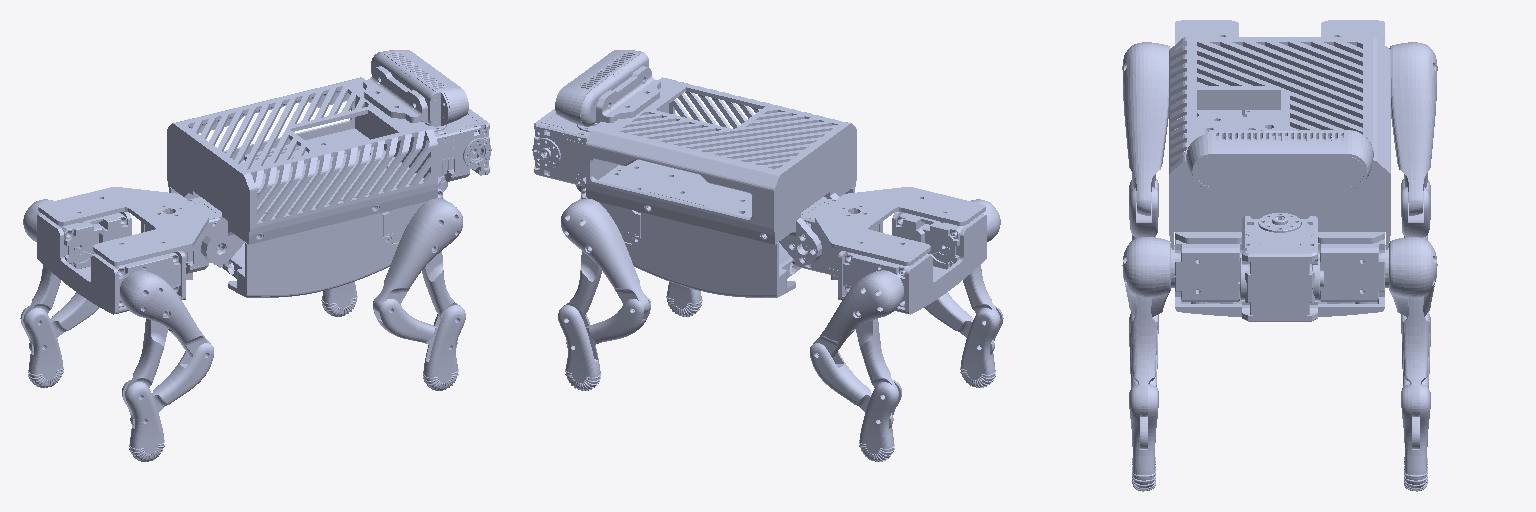
URDF robot description (pangolin_urdf_20240701):
<?xml version="1.0" encoding="utf-8"?>
<!-- This URDF was automatically created by SolidWorks to URDF Exporter! Originally created by [author] ([email redacted]) 
     Commit Version: 1.6.0-4-g7f85cfe  Build Version: 1.6.7995.38578
     For more information, please see http://wiki.ros.org/sw_urdf_exporter -->
<robot
  name="pangolin_urdf_20240701">

  <link name="base_footprint" />

  <joint name="base_footprint_joint" type="fixed">
    <parent link="base_footprint" />
    <child link="base_link" />
  </joint>

  <link
    name="base_link">
    <inertial>
      <origin
        xyz="-0.0313252257898107 -0.00588480632921573 -3.84345790439118E-05"
        rpy="0 0 0" />
      <mass
        value="0.300656161499489" />
      <inertia
        ixx="0.000301845059404825"
        ixy="-8.25487597276206E-06"
        ixz="8.6011437382888E-07"
        iyy="0.00064795051300159"
        iyz="3.24091887376188E-06"
        izz="0.00041939065914618" />
    </inertial>
    <visual>
      <origin
        xyz="0 0 0"
        rpy="0 0 0" />
      <geometry>
        <mesh
          filename="package://pangolin_description/meshes/base_link.STL" />
      </geometry>
      <material
        name="">
        <color
          rgba="0.792156862745098 0.819607843137255 0.933333333333333 1" />
      </material>
    </visual>
    <collision>
      <origin
        xyz="0 0 0"
        rpy="0 0 0" />
      <geometry>
        <mesh
          filename="package://pangolin_description/meshes/base_link.STL" />
      </geometry>
    </collision>
  </link>

  <link
    name="middle_Link">
    <inertial>
      <origin
        xyz="-0.0119998076419855 0.000631330580425379 -0.000631413846928882"
        rpy="0 0 0" />
      <mass
        value="0.0516800335523288" />
      <inertia
        ixx="1.00735501847802E-05"
        ixy="7.6612843438481E-10"
        ixz="8.64529927359661E-10"
        iyy="1.42015051482129E-05"
        iyz="-3.44213547772831E-07"
        izz="1.42013923449279E-05" />
    </inertial>
    <visual>
      <origin
        xyz="0 0 0"
        rpy="0 0 0" />
      <geometry>
        <mesh
          filename="package://pangolin_description/meshes/middle_Link.STL" />
      </geometry>
      <material
        name="">
        <color
          rgba="0.792156862745098 0.819607843137255 0.933333333333333 1" />
      </material>
    </visual>
    <collision>
      <origin
        xyz="0 0 0"
        rpy="0 0 0" />
      <geometry>
        <mesh
          filename="package://pangolin_description/meshes/middle_Link.STL" />
      </geometry>
    </collision>
  </link>
  <joint
    name="middle_joint"
    type="continuous">
    <origin
      xyz="-0.123545725760119 0 -0.0143999999999989"
      rpy="1.5707963267949 0 0" />
    <parent
      link="base_link" />
    <child
      link="middle_Link" />
    <axis
      xyz="0 0 1" />
  </joint>
  <link
    name="backbody_Link">
    <inertial>
      <origin
        xyz="-0.0401345285360247 0.00150404730811935 -1.3639891432567E-07"
        rpy="0 0 0" />
      <mass
        value="0.133315232250175" />
      <inertia
        ixx="6.22929555065092E-05"
        ixy="1.62167177106984E-06"
        ixz="3.86479180915062E-11"
        iyy="9.66506714262623E-05"
        iyz="7.13313887467718E-11"
        izz="5.1414766900231E-05" />
    </inertial>
    <visual>
      <origin
        xyz="0 0 0"
        rpy="0 0 0" />
      <geometry>
        <mesh
          filename="package://pangolin_description/meshes/backbody_Link.STL" />
      </geometry>
      <material
        name="">
        <color
          rgba="0.792156862745098 0.819607843137255 0.933333333333333 1" />
      </material>
    </visual>
    <collision>
      <origin
        xyz="0 0 0"
        rpy="0 0 0" />
      <geometry>
        <mesh
          filename="package://pangolin_description/meshes/backbody_Link.STL" />
      </geometry>
    </collision>
  </link>
  <joint
    name="backbody_joint"
    type="continuous">
    <origin
      xyz="-0.024 0 0"
      rpy="0 0 0" />
    <parent
      link="middle_Link" />
    <child
      link="backbody_Link" />
    <axis
      xyz="0 1 0" />
  </joint>
  <link
    name="lb_Link">
    <inertial>
      <origin
        xyz="0.0113504180177432 -0.0399853221348838 -0.0119460436137977"
        rpy="0 0 0" />
      <mass
        value="0.0475589041979298" />
      <inertia
        ixx="1.22866571038927E-05"
        ixy="3.48861163975532E-06"
        ixz="1.68183314167486E-07"
        iyy="8.15609817415042E-06"
        iyz="-1.99134224252012E-07"
        izz="1.83443674686508E-05" />
    </inertial>
    <visual>
      <origin
        xyz="0 0 0"
        rpy="0 0 0" />
      <geometry>
        <mesh
          filename="package://pangolin_description/meshes/lb_Link.STL" />
      </geometry>
      <material
        name="">
        <color
          rgba="0.792156862745098 0.819607843137255 0.933333333333333 1" />
      </material>
    </visual>
    <collision>
      <origin
        xyz="0 0 0"
        rpy="0 0 0" />
      <geometry>
        <mesh
          filename="package://pangolin_description/meshes/lb_Link.STL" />
      </geometry>
    </collision>
  </link>
  <joint
    name="lb_joint"
    type="continuous">
    <origin
      xyz="-0.055701668245708 0.00208974071687983 -0.0523614811329661"
      rpy="0 0 0" />
    <parent
      link="backbody_Link" />
    <child
      link="lb_Link" />
    <axis
      xyz="0 0 1" />
  </joint>
  <link
    name="rb_Link">
    <inertial>
      <origin
        xyz="0.0113509950048316 -0.0399870419066324 0.0119459438895403"
        rpy="0 0 0" />
      <mass
        value="0.0475552016041672" />
      <inertia
        ixx="1.22854639114743E-05"
        ixy="3.48743484174202E-06"
        ixz="-1.68034498691331E-07"
        iyy="8.15619442296004E-06"
        iyz="1.99522558191507E-07"
        izz="1.83435666794323E-05" />
    </inertial>
    <visual>
      <origin
        xyz="0 0 0"
        rpy="0 0 0" />
      <geometry>
        <mesh
          filename="package://pangolin_description/meshes/rb_Link.STL" />
      </geometry>
      <material
        name="">
        <color
          rgba="0.792156862745098 0.819607843137255 0.933333333333333 1" />
      </material>
    </visual>
    <collision>
      <origin
        xyz="0 0 0"
        rpy="0 0 0" />
      <geometry>
        <mesh
          filename="package://pangolin_description/meshes/rb_Link.STL" />
      </geometry>
    </collision>
  </link>
  <joint
    name="rb_link"
    type="continuous">
    <origin
      xyz="-0.055701668245708 0.00208974071688019 0.0523614811329654"
      rpy="0 0 0" />
    <parent
      link="backbody_Link" />
    <child
      link="rb_Link" />
    <axis
      xyz="0 0 1" />
  </joint>
  <link
    name="camera_link" >
    <inertial>
      <origin
        xyz="-0.102101122959353 -0.0717874762493328 -0.00015491888935903"
        rpy="1.5707963267949 -1.5707963267949 1.5707963267949"/>
      <mass
        value="0.731144835838278" />
      <inertia
        ixx="0.00211232176175049"
        ixy="-0.000355381820260514"
        ixz="4.5225371271479E-06"
        iyy="0.00752084535692437"
        iyz="4.91188148074784E-06"
        izz="0.00700137458721693" />
    </inertial>
    <visual>
      <origin
        xyz="0 0 0"
        rpy="1.5707963267949 -1.5707963267949 1.5707963267949" />
      <geometry>
        <mesh
          filename="package://pangolin_description/meshes/cam_Link.STL" />
      </geometry>
      <material
        name="">
        <color
          rgba="0.792156862745098 0.819607843137255 0.933333333333333 1" />
      </material>
    </visual>
    <collision>
      <origin
        xyz="0 0 0"
        rpy="1.5707963267949 -1.5707963267949 1.5707963267949" />
      <geometry>
        <mesh
          filename="package://pangolin_description/meshes/cam_Link.STL" />
      </geometry>
    </collision>
  </link>
  <joint
    name="cam_joint"
    type="fixed">
    <origin
      xyz="0.0257215676729172 -4.25630967756469E-05 0.0528721377651949"
      rpy="1.5707963267949 3.141592654 1.5707963267949" />
    <parent
      link="base_link" />
    <child
      link="camera_link" />
    <axis
      xyz="1 0 0" />
  </joint>
  <link
    name="head_Link">
    <inertial>
      <origin
        xyz="0.0120001788552717 0.0063368437491022 -0.000686894766789261"
        rpy="0 0 0" />
      <mass
        value="0.0552741565417432" />
      <inertia
        ixx="1.01840741099191E-05"
        ixy="7.88264580287448E-10"
        ixz="8.69204342502577E-10"
        iyy="1.4362803460138E-05"
        iyz="-3.44212189343135E-07"
        izz="1.43626696065816E-05" />
    </inertial>
    <visual>
      <origin
        xyz="0 0 0"
        rpy="0 0 0" />
      <geometry>
        <mesh
          filename="package://pangolin_description/meshes/head_Link.STL" />
      </geometry>
      <material
        name="">
        <color
          rgba="0.792156862745098 0.819607843137255 0.933333333333333 1" />
      </material>
    </visual>
    <collision>
      <origin
        xyz="0 0 0"
        rpy="0 0 0" />
      <geometry>
        <mesh
          filename="package://pangolin_description/meshes/head_Link.STL" />
      </geometry>
    </collision>
  </link>
  <joint
    name="head_joint"
    type="continuous">
    <origin
      xyz="0.0467638235284072 0 0"
      rpy="1.5707963267949 0 0" />
    <parent
      link="base_link" />
    <child
      link="head_Link" />
    <axis
      xyz="0 1 0" />
  </joint>
  <link
    name="lf_Link">
    <inertial>
      <origin
        xyz="-0.011350825105683 -0.0399869970241528 -0.0119459873978943"
        rpy="0 0 0" />
      <mass
        value="0.0475547576628768" />
      <inertia
        ixx="1.22852806516265E-05"
        ixy="-3.48733745908031E-06"
        ixz="-1.68043402088699E-07"
        iyy="8.15603075387336E-06"
        iyz="-1.99495089301054E-07"
        izz="1.83432420449524E-05" />
    </inertial>
    <visual>
      <origin
        xyz="0 0 0"
        rpy="0 0 0" />
      <geometry>
        <mesh
          filename="package://pangolin_description/meshes/lf_Link.STL" />
      </geometry>
      <material
        name="">
        <color
          rgba="0.792156862745098 0.819607843137255 0.933333333333333 1" />
      </material>
    </visual>
    <collision>
      <origin
        xyz="0 0 0"
        rpy="0 0 0" />
      <geometry>
        <mesh
          filename="package://pangolin_description/meshes/lf_Link.STL" />
      </geometry>
    </collision>
  </link>
  <joint
    name="lf_joint"
    type="continuous">
    <origin
      xyz="0.0176840717973532 0.0523614817993116 -0.0126500000000018"
      rpy="1.5707963267949 0 0" />
    <parent
      link="base_link" />
    <child
      link="lf_Link" />
    <axis
      xyz="0 0 1" />
  </joint>
  <link
    name="rf_Link">
    <inertial>
      <origin
        xyz="-0.0113503533609668 -0.0399853667899525 0.0119460274743158"
        rpy="0 0 0" />
      <mass
        value="0.0475588832380788" />
      <inertia
        ixx="1.22866685320894E-05"
        ixy="-3.48851782212338E-06"
        ixz="1.68177548162429E-07"
        iyy="8.15605228859428E-06"
        iyz="1.99134462034751E-07"
        izz="1.83443336774412E-05" />
    </inertial>
    <visual>
      <origin
        xyz="0 0 0"
        rpy="0 0 0" />
      <geometry>
        <mesh
          filename="package://pangolin_description/meshes/rf_Link.STL" />
      </geometry>
      <material
        name="">
        <color
          rgba="0.792156862745098 0.819607843137255 0.933333333333333 1" />
      </material>
    </visual>
    <collision>
      <origin
        xyz="0 0 0"
        rpy="0 0 0" />
      <geometry>
        <mesh
          filename="package://pangolin_description/meshes/rf_Link.STL" />
      </geometry>
    </collision>
  </link>
  <joint
    name="rf_joint"
    type="continuous">
    <origin
      xyz="0.0176840717973532 -0.0523614817993125 -0.0126500000000018"
      rpy="1.5707963267949 0 0" />
    <parent
      link="base_link" />
    <child
      link="rf_Link" />
    <axis
      xyz="0 0 1" />
  </joint>

</robot>

--- Facts derived from the render (not from the file) ---
3 views of the same robot in one strip: view 1: azimuth 30°, elevation 25°; view 2: azimuth 150°, elevation 25°; view 3: azimuth 270°, elevation 25° (orthographic).
Model pangolin_urdf_20240701 with 10 links and 9 joints (7 continuous, 2 fixed), rooted at base_footprint, posed all joints at 0.
Visible links, largest first — view 1: base_link, backbody_Link, rf_Link, rb_Link, lb_Link, camera_link, head_Link, middle_Link, lf_Link; view 2: base_link, backbody_Link, lf_Link, lb_Link, rb_Link, camera_link, head_Link, middle_Link, rf_Link; view 3: base_link, camera_link, head_Link, lf_Link, rf_Link, lb_Link, rb_Link, backbody_Link.
Boxes of the visible links, box(x1,y1,x2,y2) form: base_link: box(167, 66, 447, 297); backbody_Link: box(37, 187, 208, 314); rf_Link: box(373, 198, 465, 390); rb_Link: box(120, 270, 213, 461); lb_Link: box(20, 199, 99, 387); camera_link: box(371, 50, 468, 126); head_Link: box(425, 109, 491, 181); middle_Link: box(141, 197, 228, 273); lf_Link: box(321, 282, 357, 316); base_link: box(576, 66, 856, 297); backbody_Link: box(815, 187, 986, 314); lf_Link: box(558, 198, 650, 390); lb_Link: box(810, 270, 903, 461); rb_Link: box(924, 199, 1003, 387); camera_link: box(555, 50, 648, 126); head_Link: box(532, 109, 598, 185); middle_Link: box(795, 197, 882, 276); rf_Link: box(666, 282, 702, 316); base_link: box(1169, 37, 1390, 316); camera_link: box(1186, 130, 1373, 189); head_Link: box(1240, 213, 1323, 321); lf_Link: box(1389, 237, 1437, 491); rf_Link: box(1122, 237, 1170, 491); lb_Link: box(1389, 42, 1437, 240); rb_Link: box(1122, 42, 1170, 239); backbody_Link: box(1175, 20, 1384, 44).
Size in the robot's own frame: 0.3011 by 0.1511 by 0.1963 metres.
Meshes: 9 distinct files referenced, 9 mesh visuals loaded (9 binary STL).